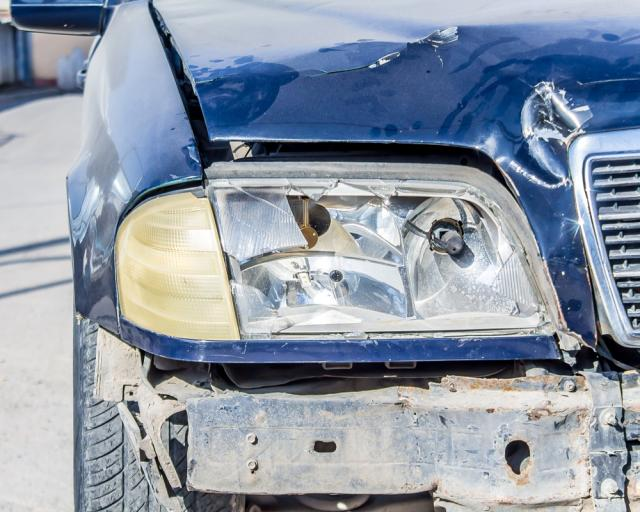dent: (488, 77, 579, 186)
lamp broken: (206, 172, 556, 340)
